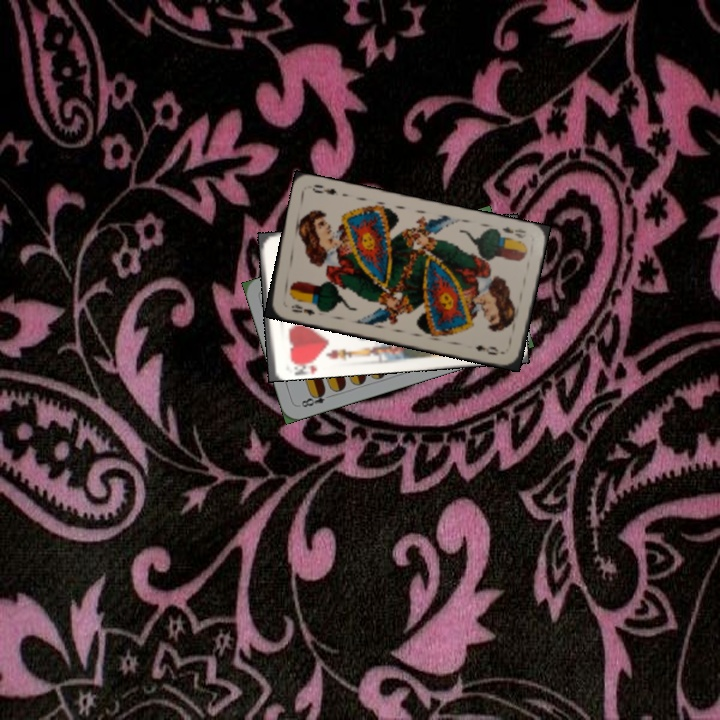E8: (297, 387, 335, 410)
EO: (287, 300, 317, 319), (498, 223, 529, 241)
HK: (286, 353, 322, 375)
